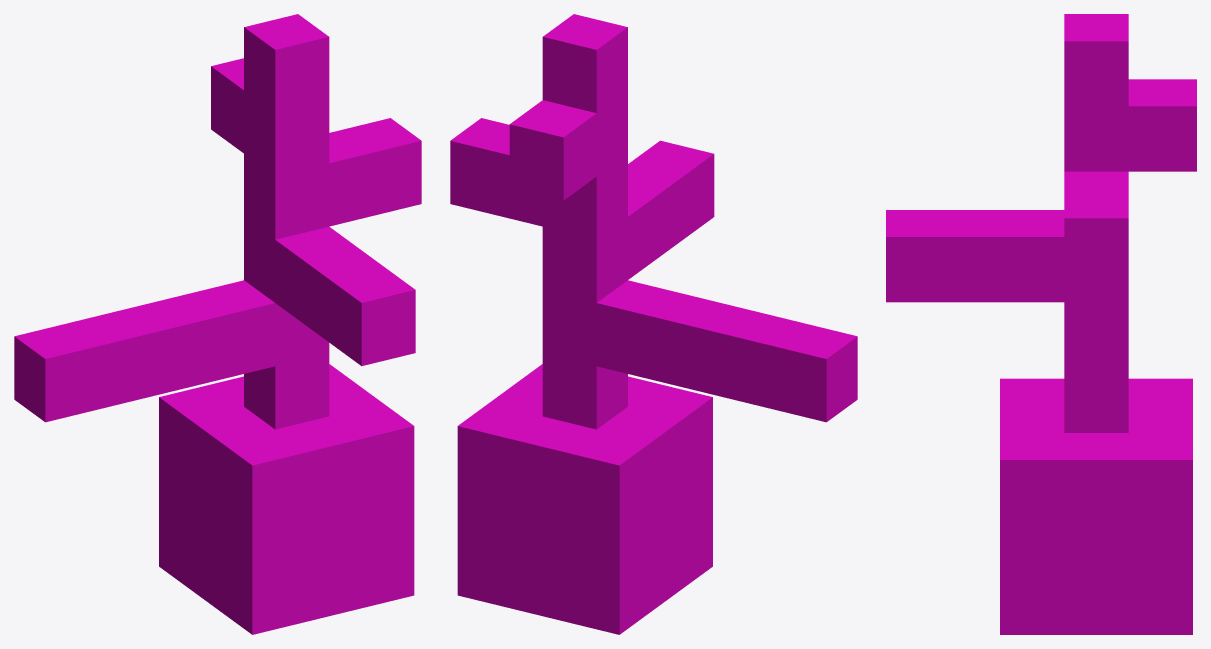
The picture shows the model from 3 angles, left to right: view 1: azimuth 30°, elevation 25°; view 2: azimuth 150°, elevation 25°; view 3: azimuth 270°, elevation 25°; orthographic projection. The views are drawn at different scales.
Visible parts, largest first — view 1: Cube; view 2: Cube; view 3: Cube.
Boxes of the visible parts, box(x1,y1,x2,y2) form: Cube: box(14, 14, 421, 634); Cube: box(450, 14, 857, 634); Cube: box(886, 14, 1196, 634).
Size of the model in its own units: 4.65 by 6.48 by 3.22.
